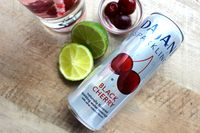blackcherry: (106, 51, 153, 96)
